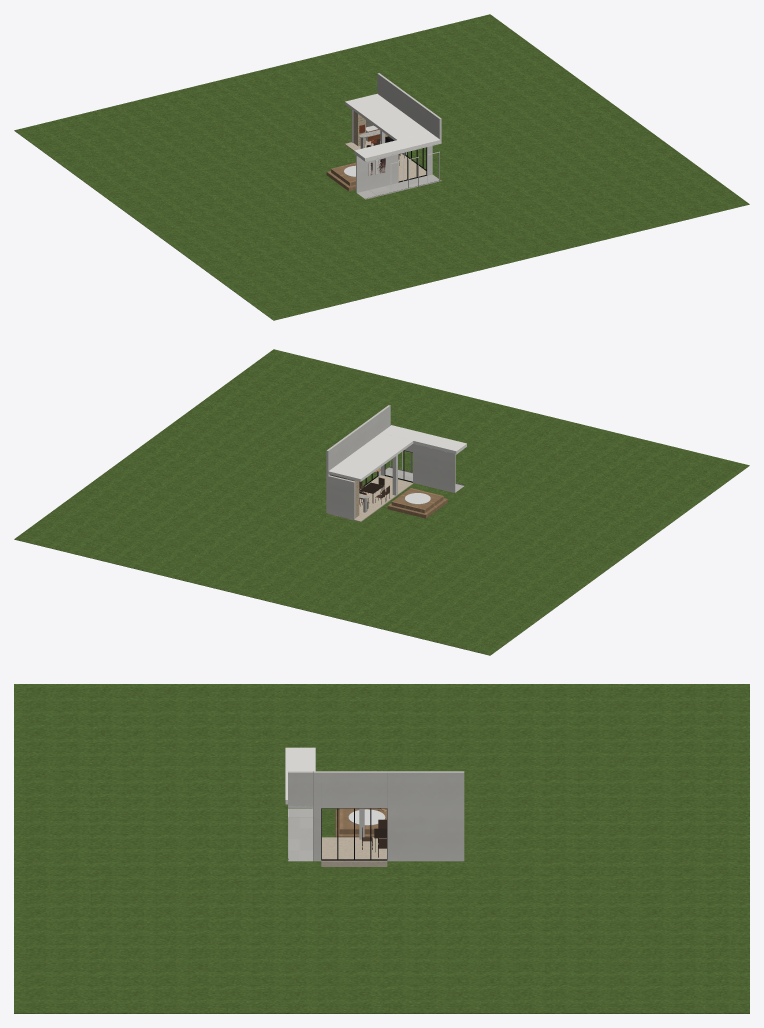
The model's file is casa_varanda.glb.
3 renders of one model, top to bottom at view 1: azimuth 30°, elevation 25°; view 2: azimuth 150°, elevation 25°; view 3: azimuth 270°, elevation 25°, orthographic. The views are drawn at different scales.
Parts seen in each view (by area): view 1: ZONA_varanda; view 2: ZONA_varanda; view 3: ZONA_varanda.
Part boxes in pixels (bbox=[...]): ZONA_varanda: bbox=[14, 14, 749, 320]; ZONA_varanda: bbox=[14, 349, 749, 655]; ZONA_varanda: bbox=[14, 684, 749, 1013].
Bounding box in the file's own units: 36 × 4.83 × 34.
1 material, 1 textured.
